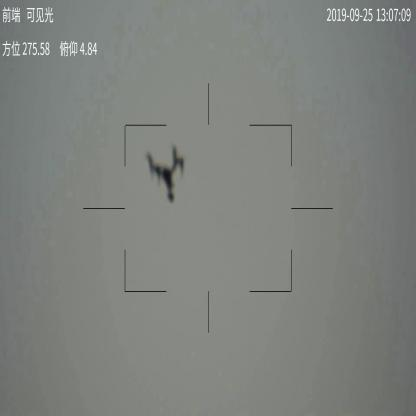uav: (141, 142, 185, 204)
